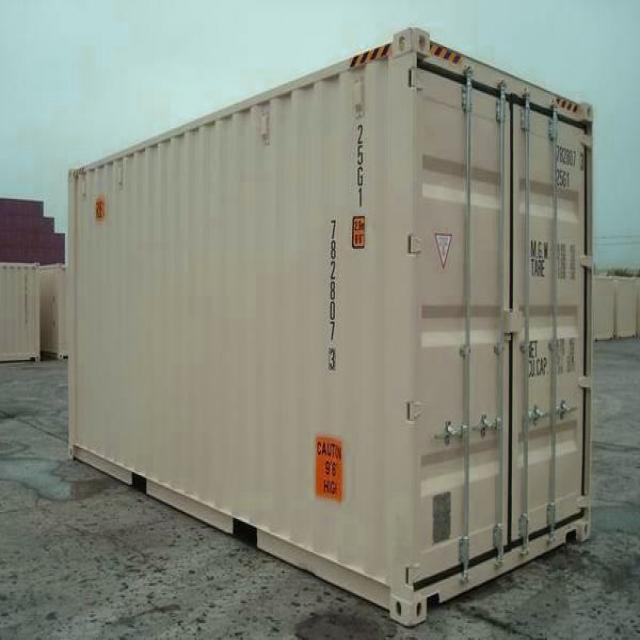ISO: (356, 122, 364, 210)
container_number: (328, 218, 341, 380)
